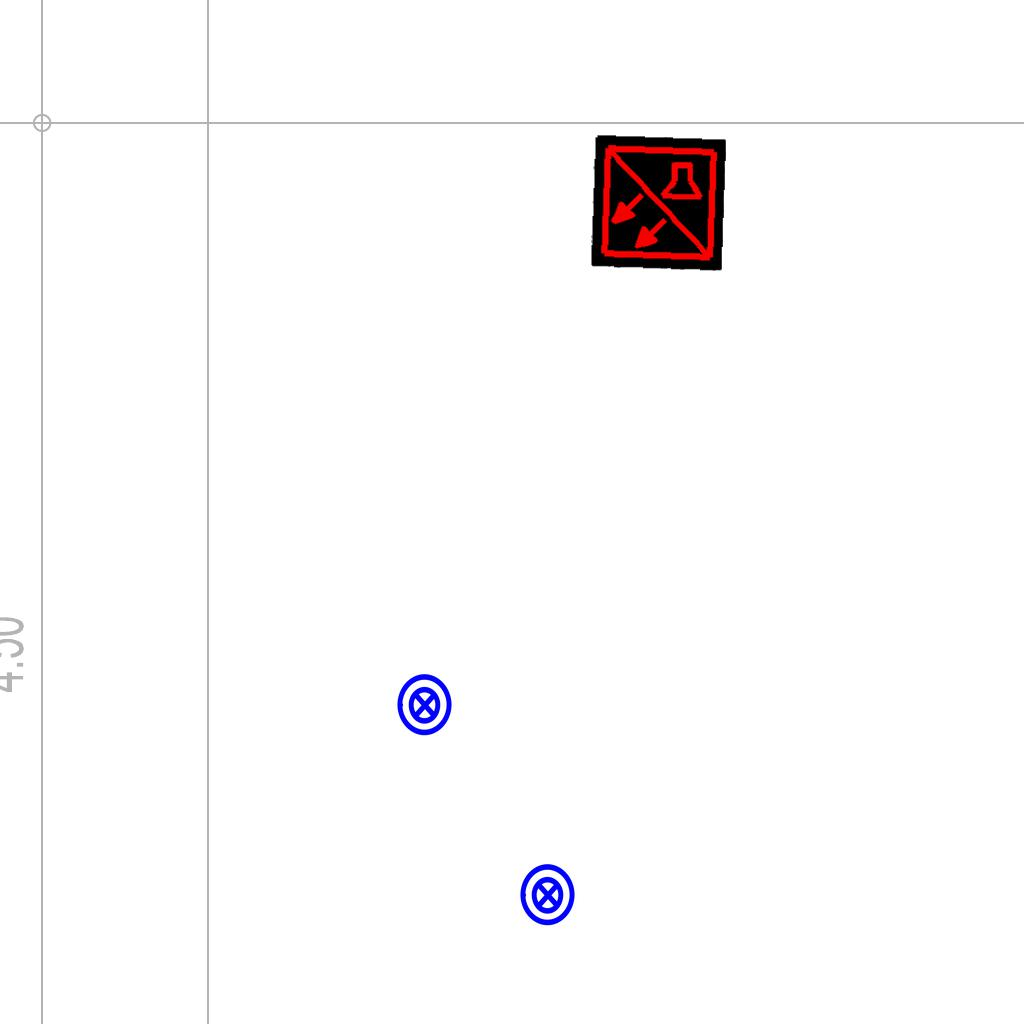OKW_Multisensormelder_(Kombination_optischer_Rauch-Kahlenmonoxid_Waerme-Melder): (589, 134, 727, 272)
Taster_beleuchtet: (392, 672, 458, 738), (515, 862, 581, 928)
